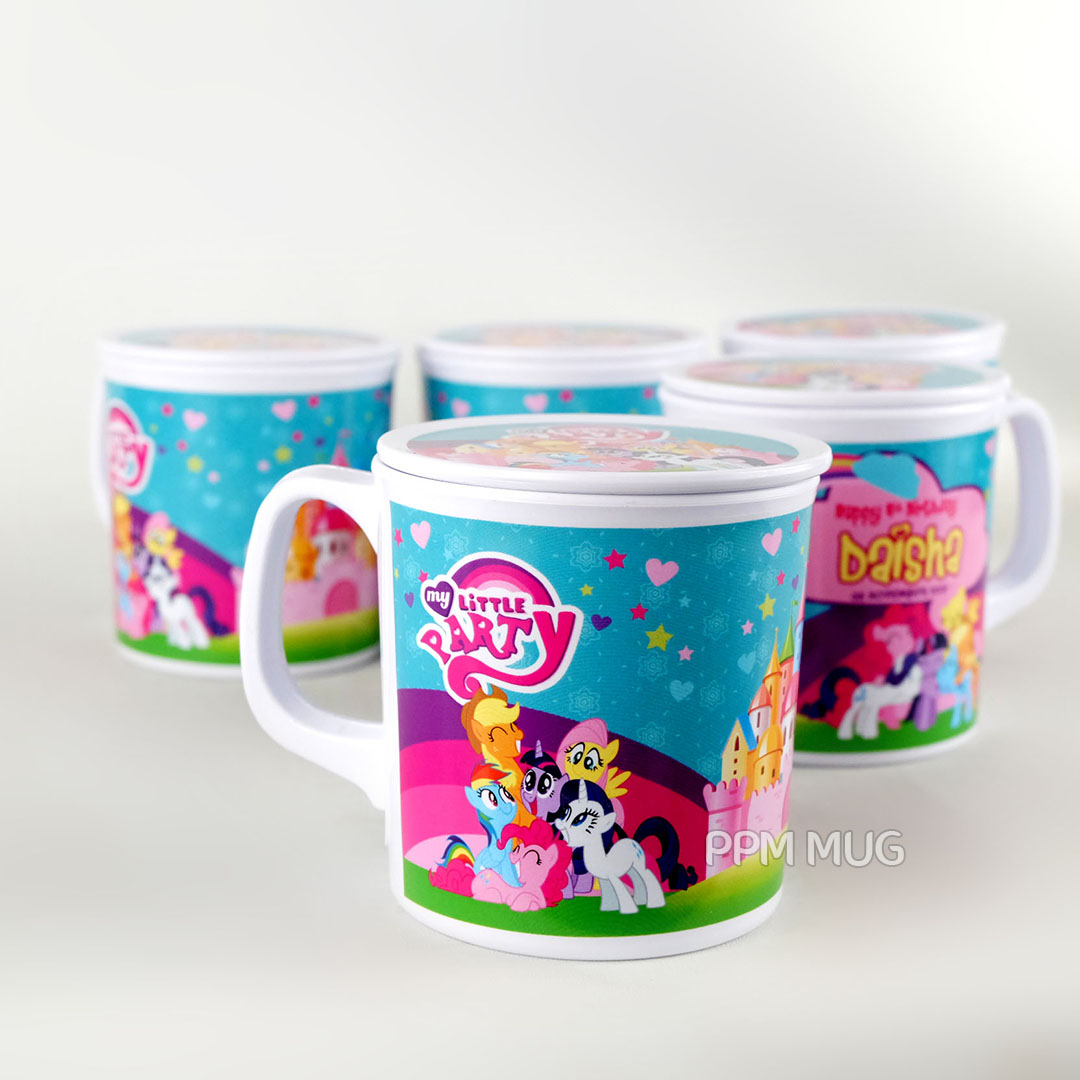gelas: (238, 412, 837, 963)
